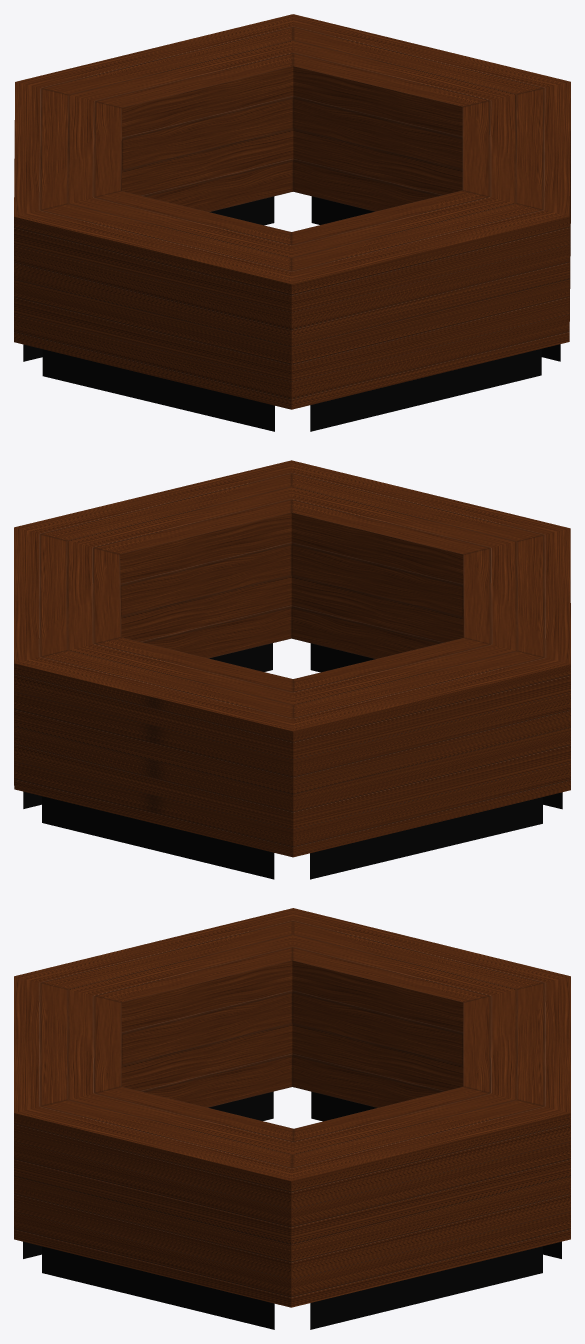
The model's file is Referencedesk.fbx.
The picture shows the model from 3 angles, top to bottom: view 1: azimuth 30°, elevation 25°; view 2: azimuth 150°, elevation 25°; view 3: azimuth 270°, elevation 25°; orthographic projection.
Parts seen in each view (by area): view 1: circulardesk; view 2: circulardesk; view 3: circulardesk.
Boxes of the visible parts, left/top/right/bottom form: circulardesk: left=14, top=14, right=570, bottom=431; circulardesk: left=14, top=460, right=570, bottom=879; circulardesk: left=14, top=908, right=570, bottom=1329.
Size of the model in its own units: 4 by 1.08 by 3.44.
